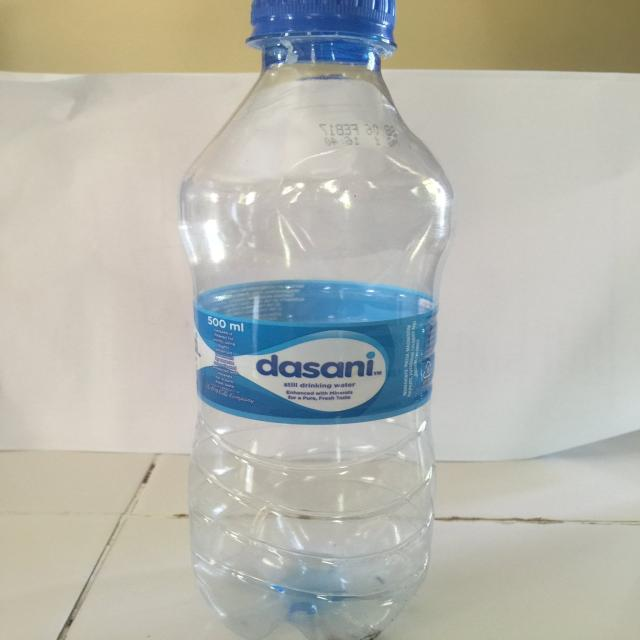plastic: (178, 0, 456, 640)
